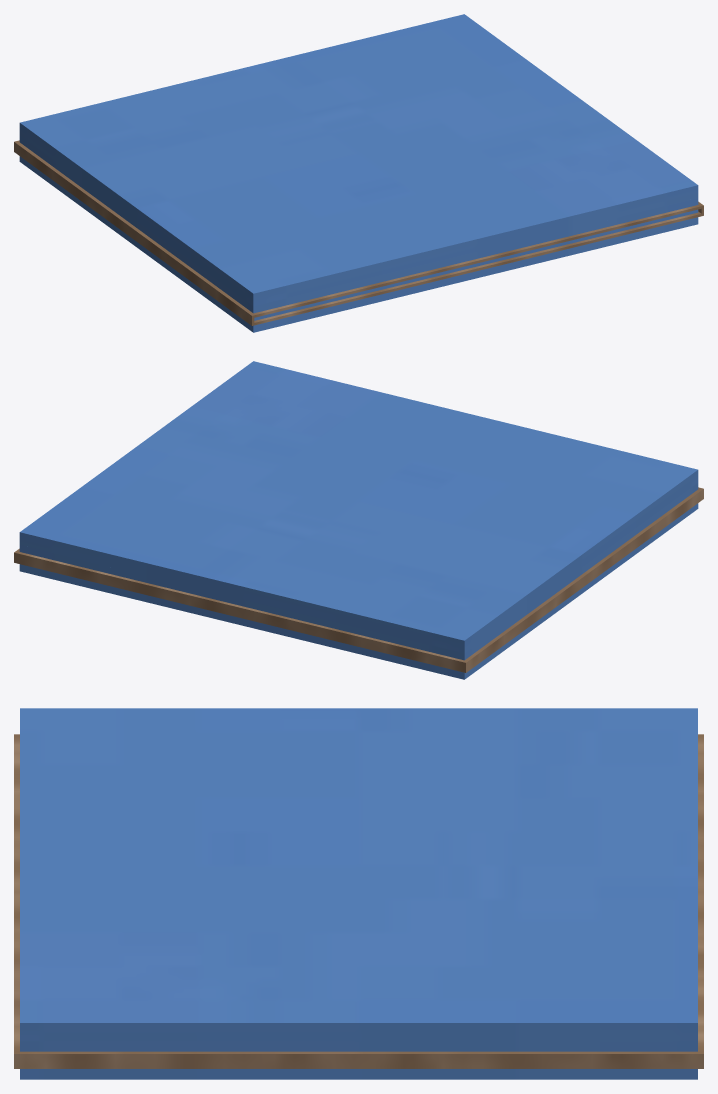
Rendered from Music_CD_case__0013.glb.
3 views of the same model, one above another, from view 1: azimuth 30°, elevation 25°; view 2: azimuth 150°, elevation 25°; view 3: azimuth 270°, elevation 25° (orthographic). The views are drawn at different scales.
Parts seen in each view (by area): view 1: lid::lid_shell, base::base_frame, base::sleeve_pocket; view 2: lid::lid_shell, base::base_frame, base::sleeve_pocket; view 3: lid::lid_shell, base::sleeve_pocket, base::base_frame.
Boxes of the visible parts, left/top/right/bottom form: lid::lid_shell: left=19, top=14, right=698, bottom=306; base::base_frame: left=19, top=135, right=698, bottom=332; base::sleeve_pocket: left=14, top=140, right=703, bottom=325; lid::lid_shell: left=19, top=361, right=698, bottom=653; base::base_frame: left=19, top=482, right=698, bottom=679; base::sleeve_pocket: left=14, top=487, right=703, bottom=672; lid::lid_shell: left=20, top=708, right=697, bottom=1041; base::sleeve_pocket: left=14, top=734, right=703, bottom=1068; base::base_frame: left=20, top=1041, right=697, bottom=1079.
Size of the model in its own units: 0.1487 by 0.0123 by 0.1356.
3 materials, 3 textured.
